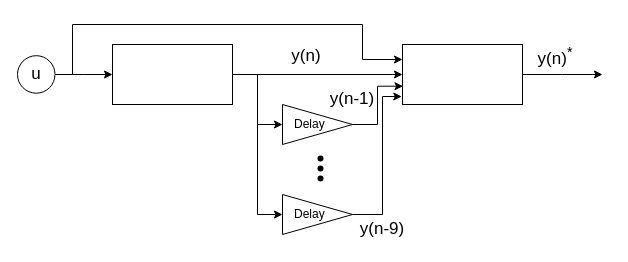
Some shapes in this 628 by 262 pixel diagram are drawn without their labels. The shapes that lost their labels are listed below. From the top down, each one's box as (x1, y1, x2, y2) in pixels, then its label:
(112, 44, 232, 104): Sistema lineal
(402, 44, 522, 104): Red neuronal
